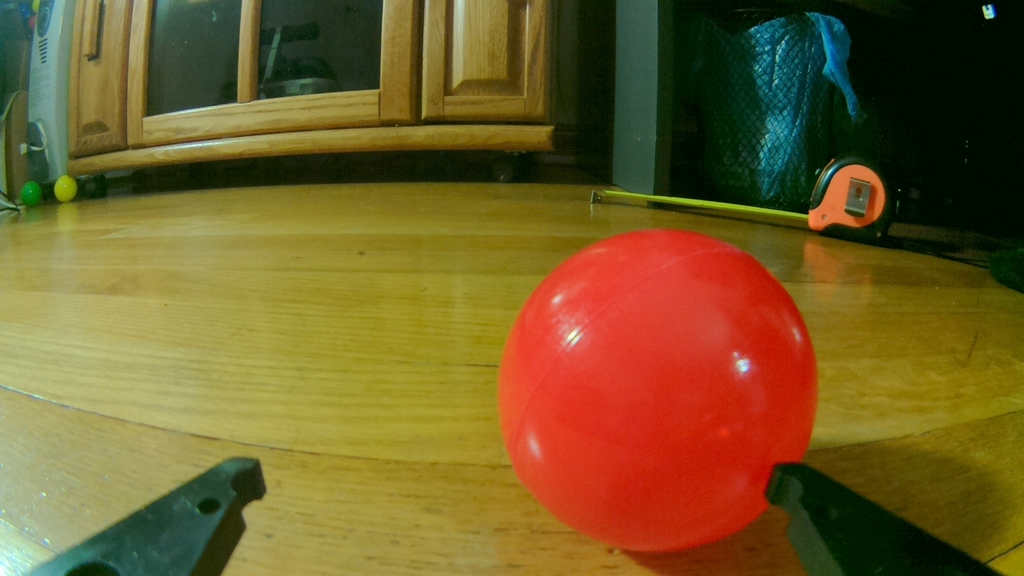ball: (494, 227, 824, 556)
